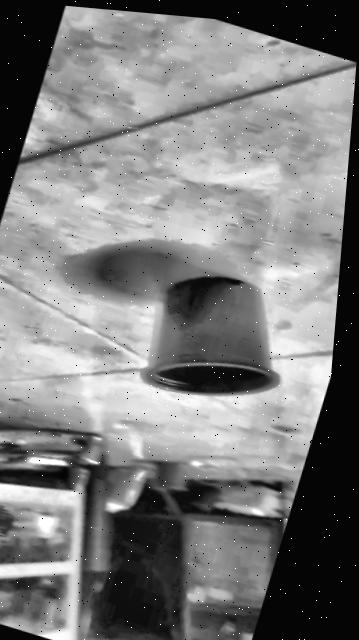pot: (135, 259, 302, 423)
